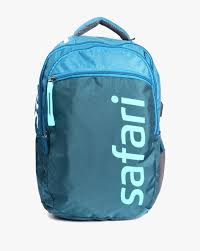backpack: (33, 16, 165, 221)
